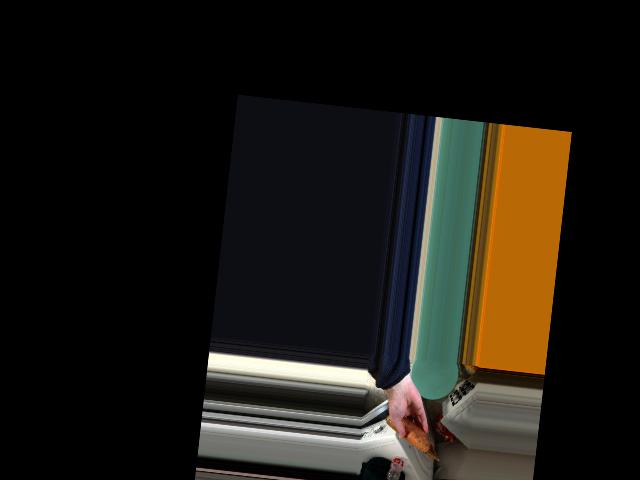sweet_potato: (385, 409, 425, 444)
